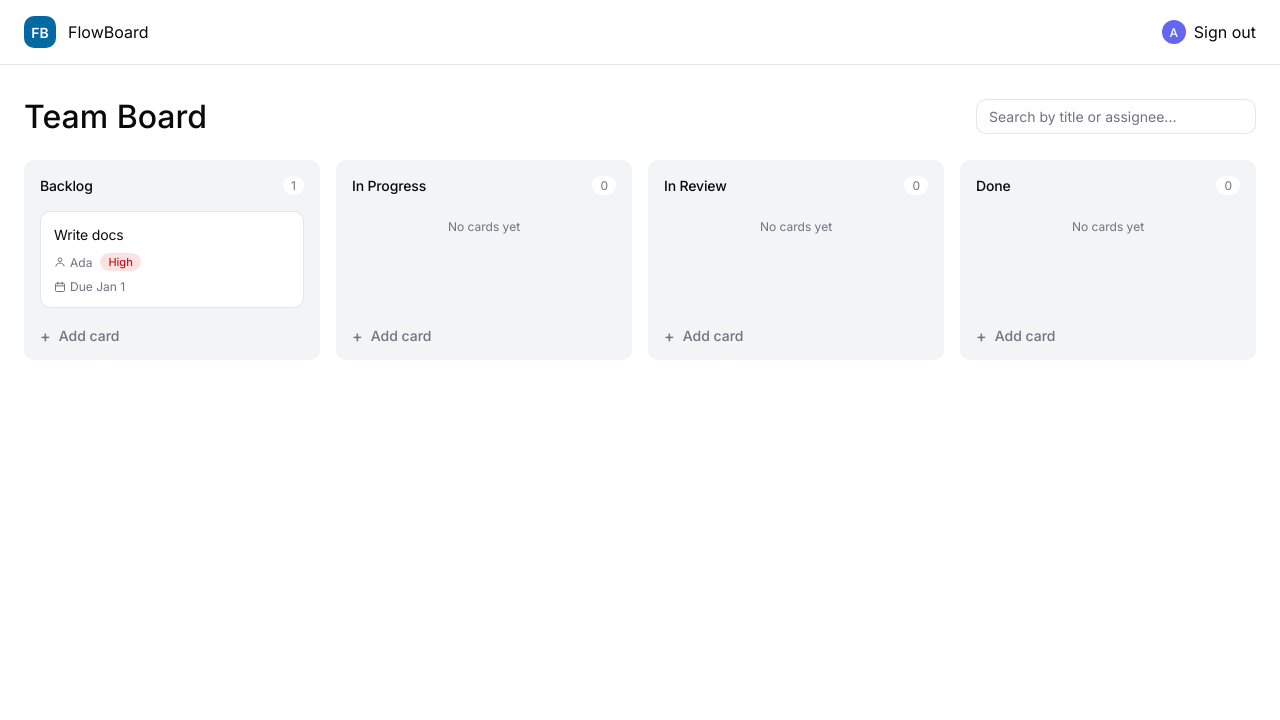
failure handling (audit regressions) › rolls back a failed save and offers retry
Expected: the heading "Team Board" is shown, [24, 97, 207, 136]
Click the button "Write docs Ada High Due Jan 1". click: (89, 234)
box: [40, 211, 304, 308]
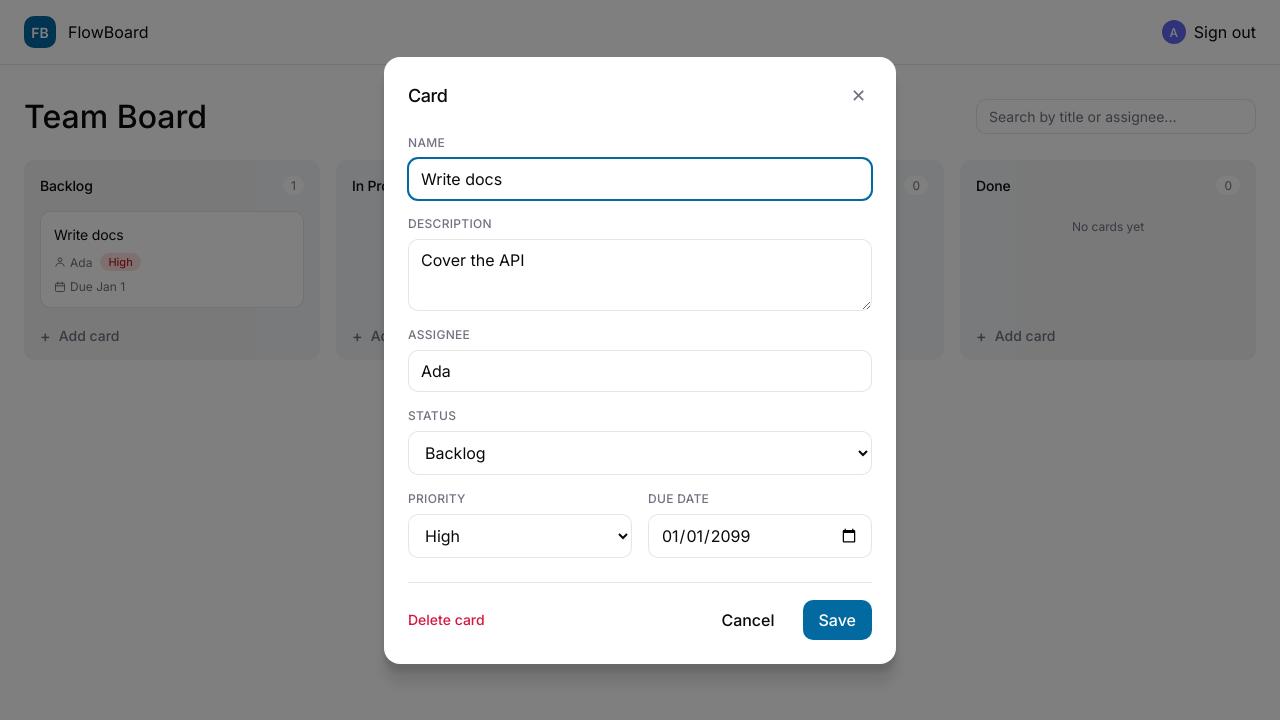
Replace the text in the field labelled "Name" with "Changed". click: (640, 178)
box: [408, 158, 872, 200]
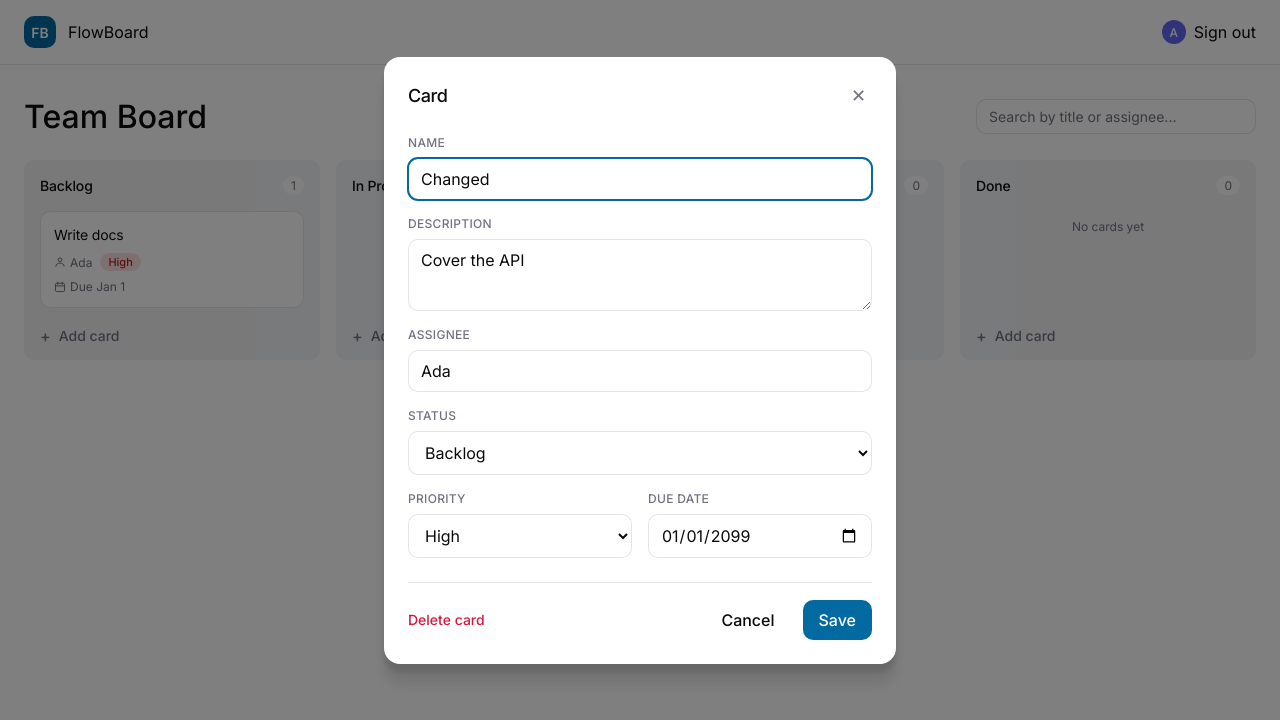
Click the button "Save". click: (837, 620)
box: [802, 600, 872, 640]
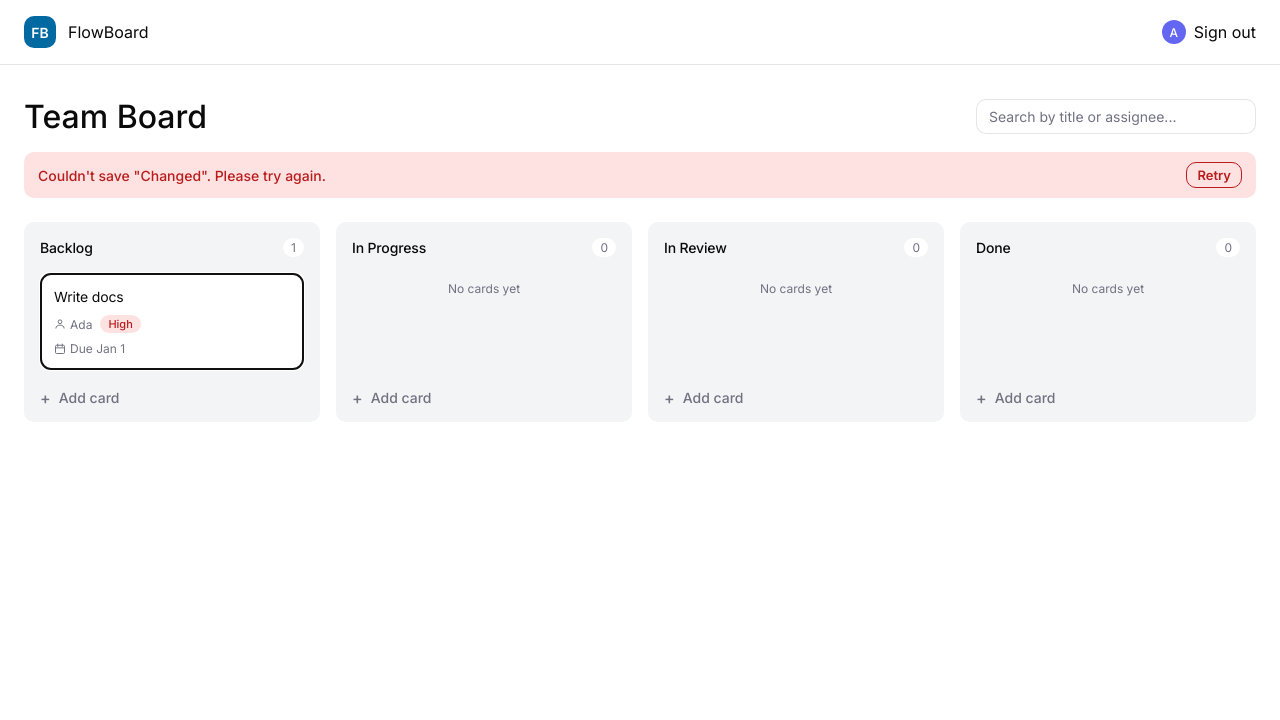
Expected: the text "Write docs" is shown, [54, 287, 124, 307]
Expected: the message shows "Couldn't save \"Changed\"", [38, 166, 326, 184]
Click the button "Retry". click: (1214, 175)
box: [1186, 162, 1242, 188]
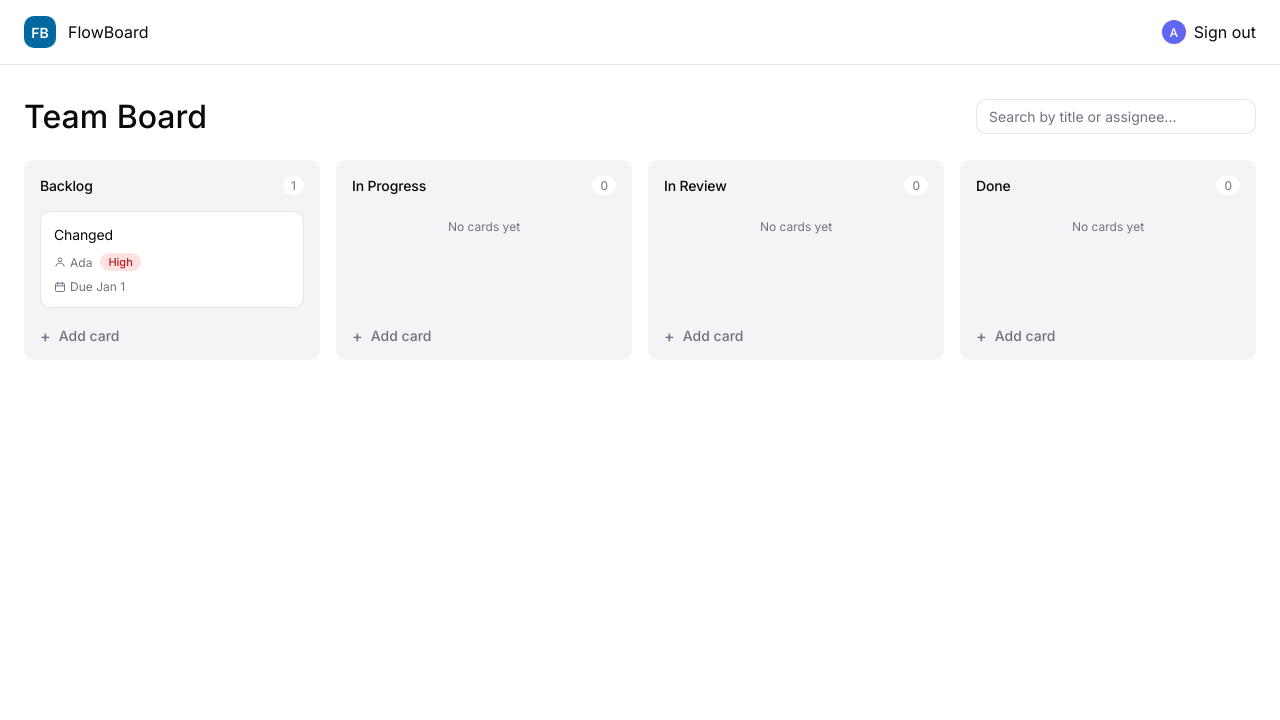
Expected: the text "Changed" is shown, [54, 225, 113, 245]
Expected: the message "Couldn't save \"Changed\". Please try again. Retry" is gone
